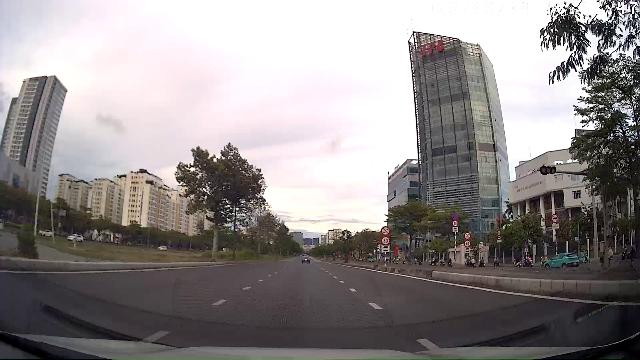127-toc-do-toi-da-60: (382, 236, 391, 245)
